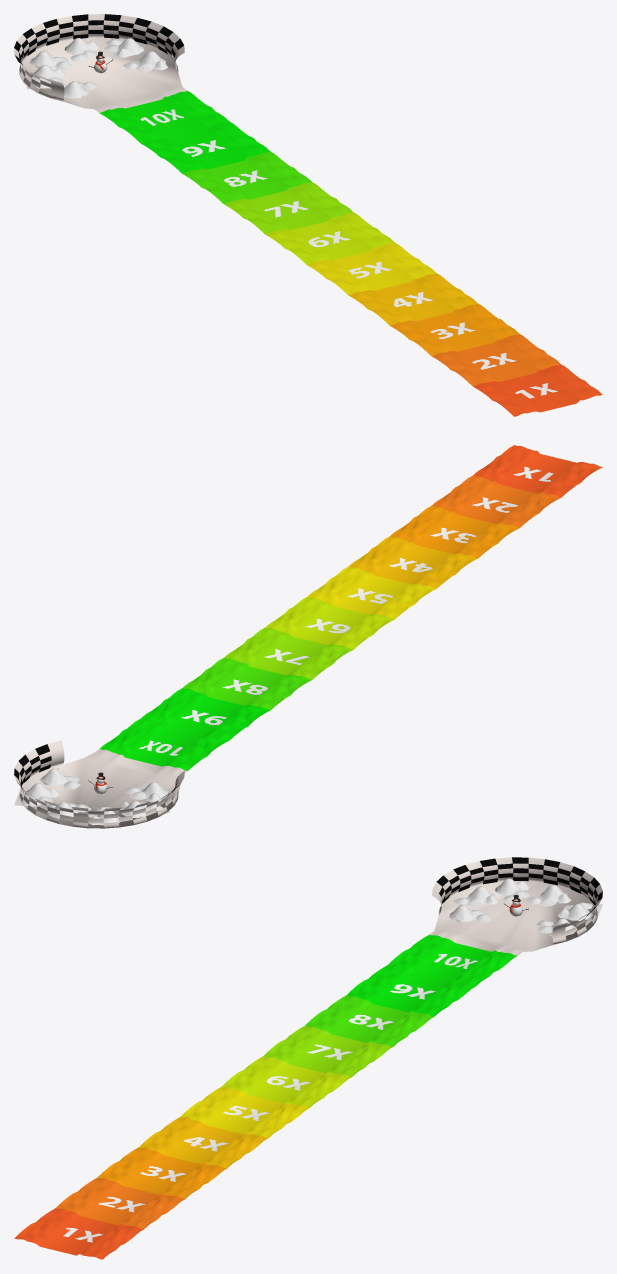
Rendered from bonus level.fbx.
3 renders of one model, top to bottom at view 1: azimuth 30°, elevation 25°; view 2: azimuth 150°, elevation 25°; view 3: azimuth 330°, elevation 25°, orthographic.
Visible parts, largest first — view 1: Circle, Plane.019, Plane.018, Plane.022, Plane.020, Plane.023, Plane.017, Plane.021, Plane.009, Plane.016, Plane.025, Plane.010 (+2 smaller); view 2: Circle, Plane.022, Plane.009, Plane.019, Plane.018, Plane.016, Plane.021, Plane.023, Plane.017, Plane.020, Plane.025, Plane.011 (+2 smaller); view 3: Circle, Plane.016, Plane.023, Plane.020, Plane.022, Plane.009, Plane.019, Plane.021, Plane.017, Plane.018, Plane.025, Plane.010 (+3 smaller).
Boxes of the visible parts, bbox=[...] form: Circle: bbox=[14, 14, 187, 112]; Plane.019: bbox=[307, 243, 436, 295]; Plane.018: bbox=[348, 273, 477, 325]; Plane.022: bbox=[182, 151, 311, 203]; Plane.020: bbox=[265, 212, 394, 264]; Plane.023: bbox=[141, 121, 270, 173]; Plane.017: bbox=[390, 303, 519, 355]; Plane.021: bbox=[224, 182, 353, 234]; Plane.009: bbox=[473, 364, 602, 416]; Plane.016: bbox=[431, 334, 560, 386]; Plane.025: bbox=[99, 91, 228, 143]; Plane.010: bbox=[64, 38, 99, 61]; Circle: bbox=[14, 740, 187, 828]; Plane.022: bbox=[182, 658, 311, 710]; Plane.009: bbox=[473, 445, 602, 497]; Plane.019: bbox=[307, 566, 436, 618]; Plane.018: bbox=[348, 536, 477, 588]; Plane.016: bbox=[431, 475, 560, 527]; Plane.021: bbox=[224, 627, 353, 679]; Plane.023: bbox=[141, 688, 270, 740]; Plane.017: bbox=[390, 506, 519, 558]; Plane.020: bbox=[265, 597, 394, 649]; Plane.025: bbox=[99, 718, 228, 770]; Plane.011: bbox=[14, 783, 59, 806]; Circle: bbox=[429, 857, 602, 955]; Plane.016: bbox=[56, 1177, 185, 1228]; Plane.023: bbox=[346, 965, 475, 1016]; Plane.020: bbox=[222, 1056, 351, 1107]; Plane.022: bbox=[305, 995, 434, 1046]; Plane.009: bbox=[14, 1208, 143, 1259]; Plane.019: bbox=[180, 1086, 309, 1137]; Plane.021: bbox=[263, 1026, 392, 1077]; Plane.017: bbox=[97, 1147, 226, 1198]; Plane.018: bbox=[139, 1117, 268, 1168]; Plane.025: bbox=[388, 934, 517, 985]; Plane.010: bbox=[525, 885, 571, 906].
Bounding box in the file's own units: 752 × 106 × 4412.
